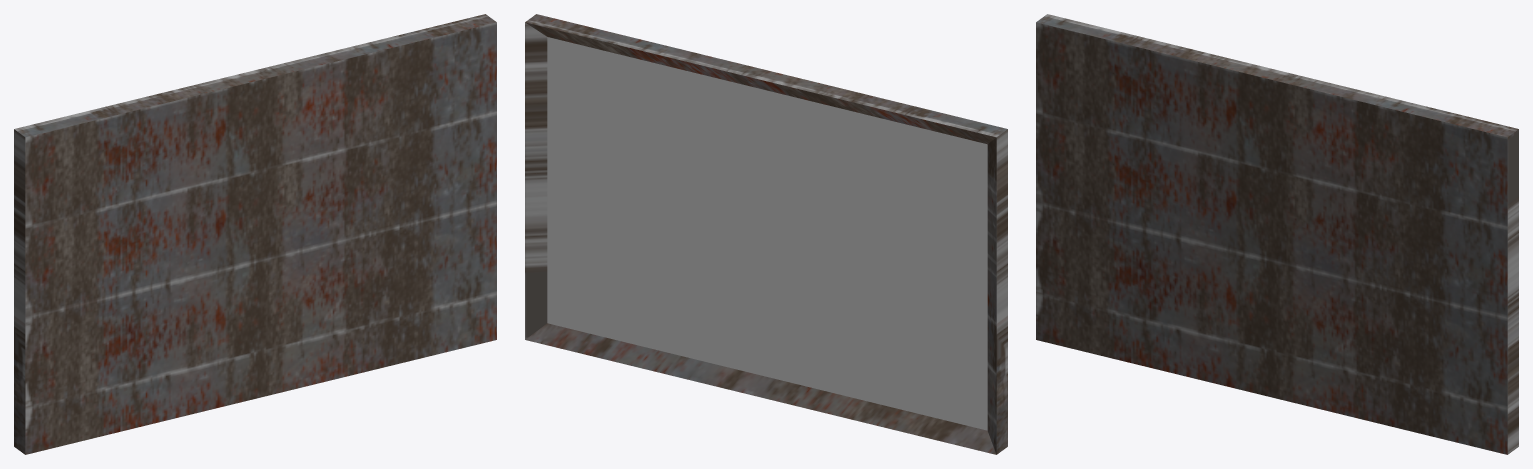
File: quaddro.fbx
3 views of the same model, side by side, from view 1: azimuth 30°, elevation 25°; view 2: azimuth 150°, elevation 25°; view 3: azimuth 330°, elevation 25° (orthographic).
Parts seen in each view (by area): view 1: Cube; view 2: Cube; view 3: Cube.
Boxes of the visible parts, box(x1,y1,x2,y2) form: Cube: box(14, 14, 496, 454); Cube: box(525, 14, 1007, 454); Cube: box(1036, 14, 1518, 454).
Size of the model in its own units: 358 by 231 by 15.01.
